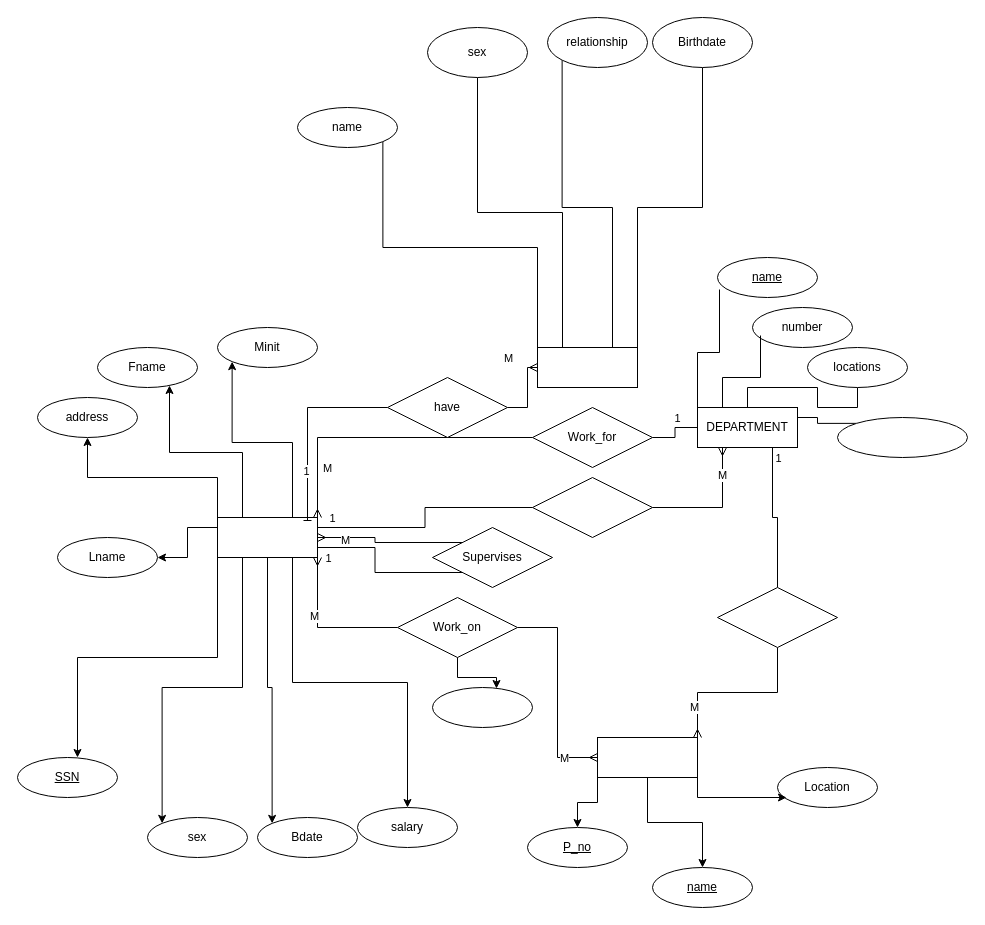
The diagram is 985 pixels wide and 925 high, and some of its shapes have lost their labels. The centre of each missing label's shape, as x and y in pixels:
"controls" belongs at pixel 777 617.
"DEPENDENT" belongs at pixel 587 367.
"EMPLOYEE" belongs at pixel 267 537.
"hours_logged" belongs at pixel 482 707.
"Manages" belongs at pixel 592 507.
"NumberOfEmployees" belongs at pixel 902 437.
"PROJECT" belongs at pixel 647 757.
